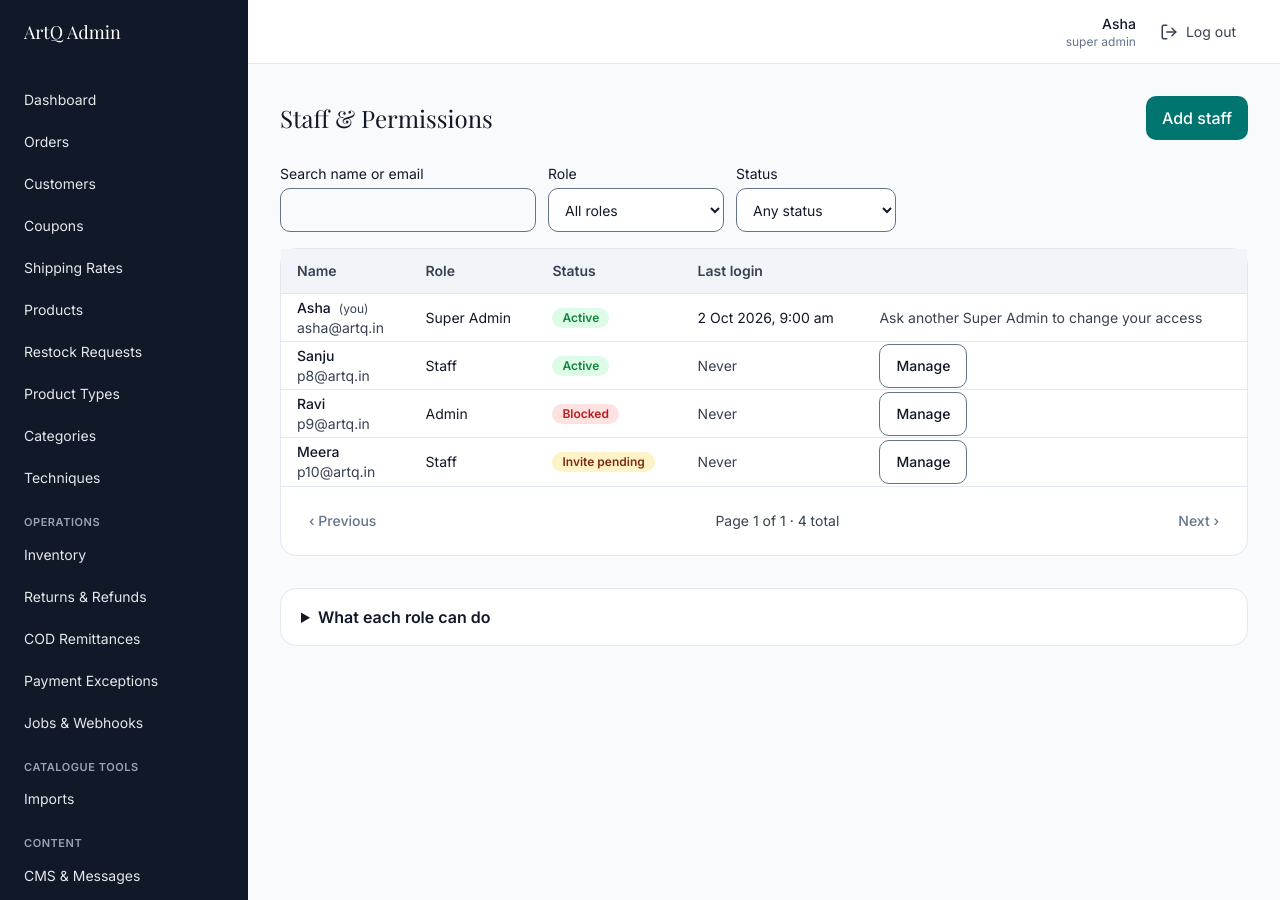
Test: Manage staff › role change asks for confirmation, then PATCHes the role
Click the button with aria-label "Manage Sanju".
click(923, 366)  # box [879,344,967,388]
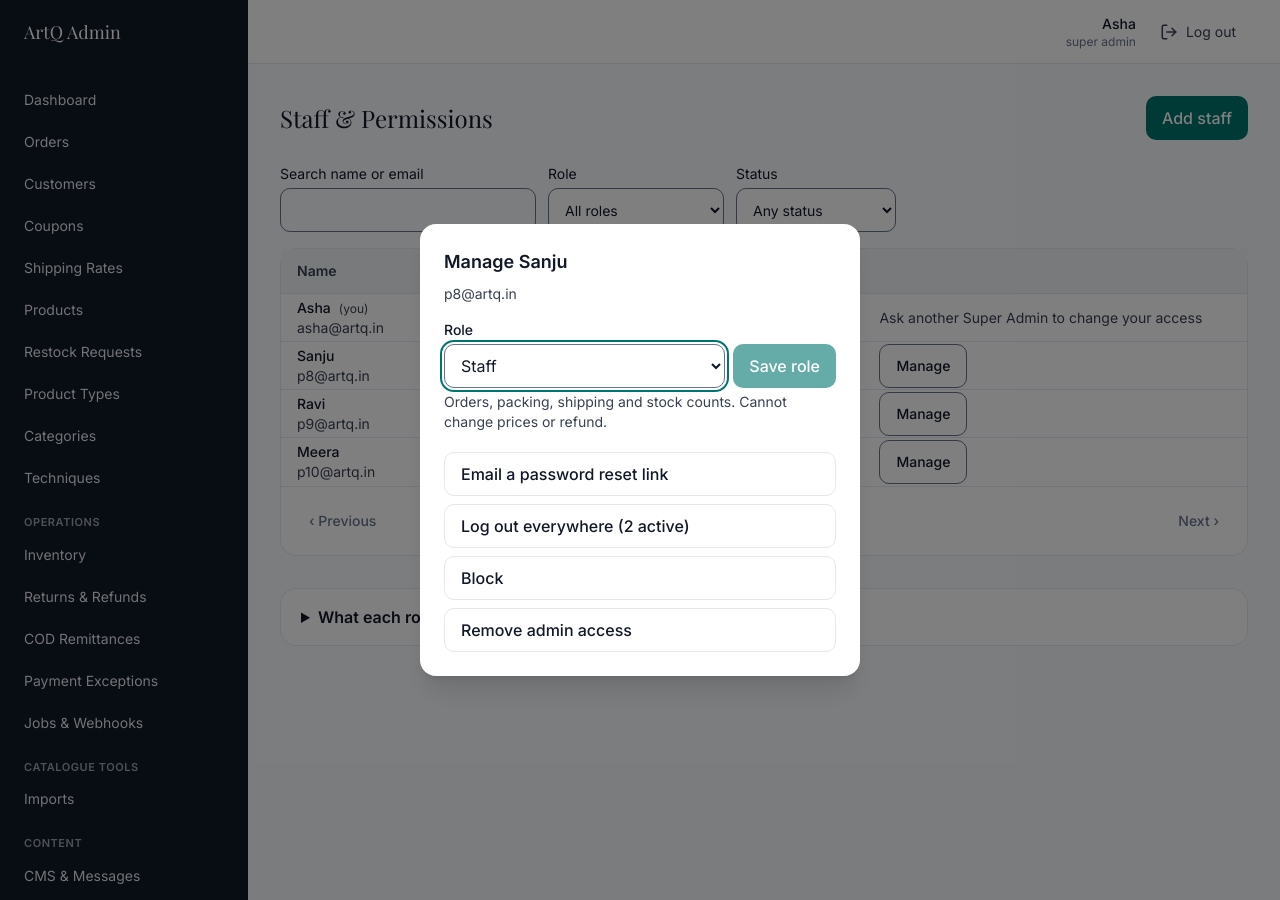
Expected: the button "Save role" is disabled, [733,344,836,388]
Select "Admin" in the dropdown labelled "Role" at (585, 366), box [444,344,725,388]
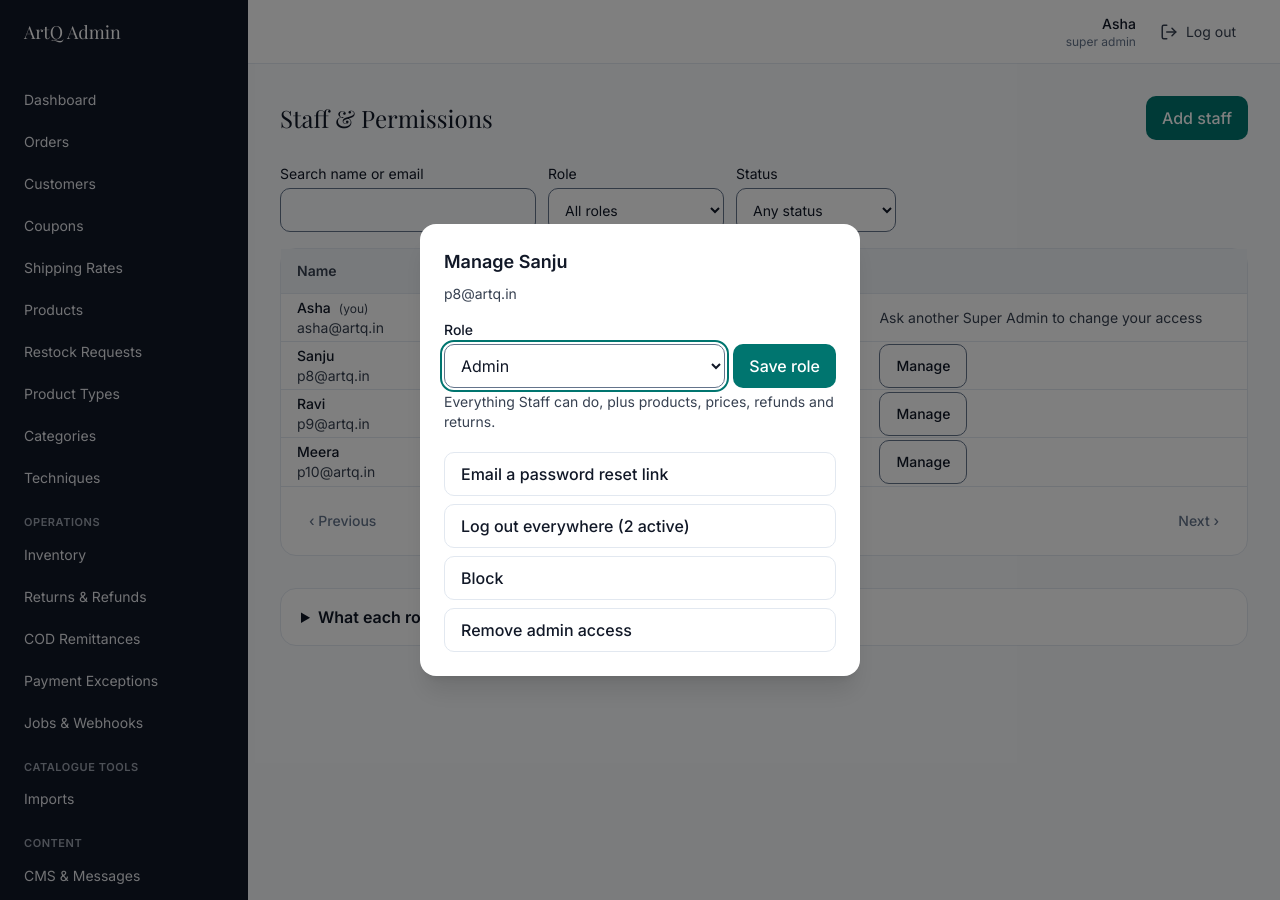
Click the button "Save role".
click(785, 366)  # box [733,344,836,388]
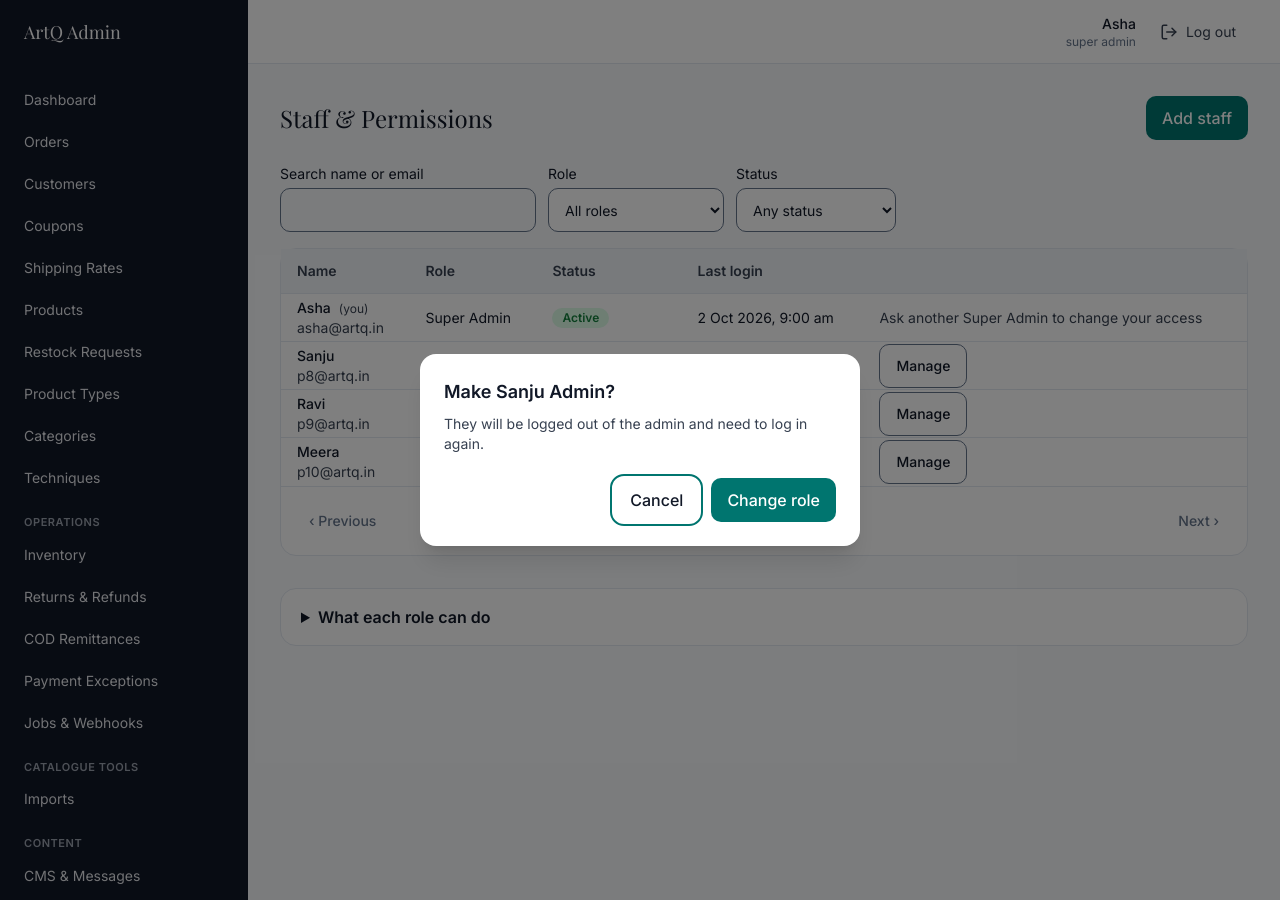
Click the button "Change role".
click(774, 500)  # box [711,478,836,522]
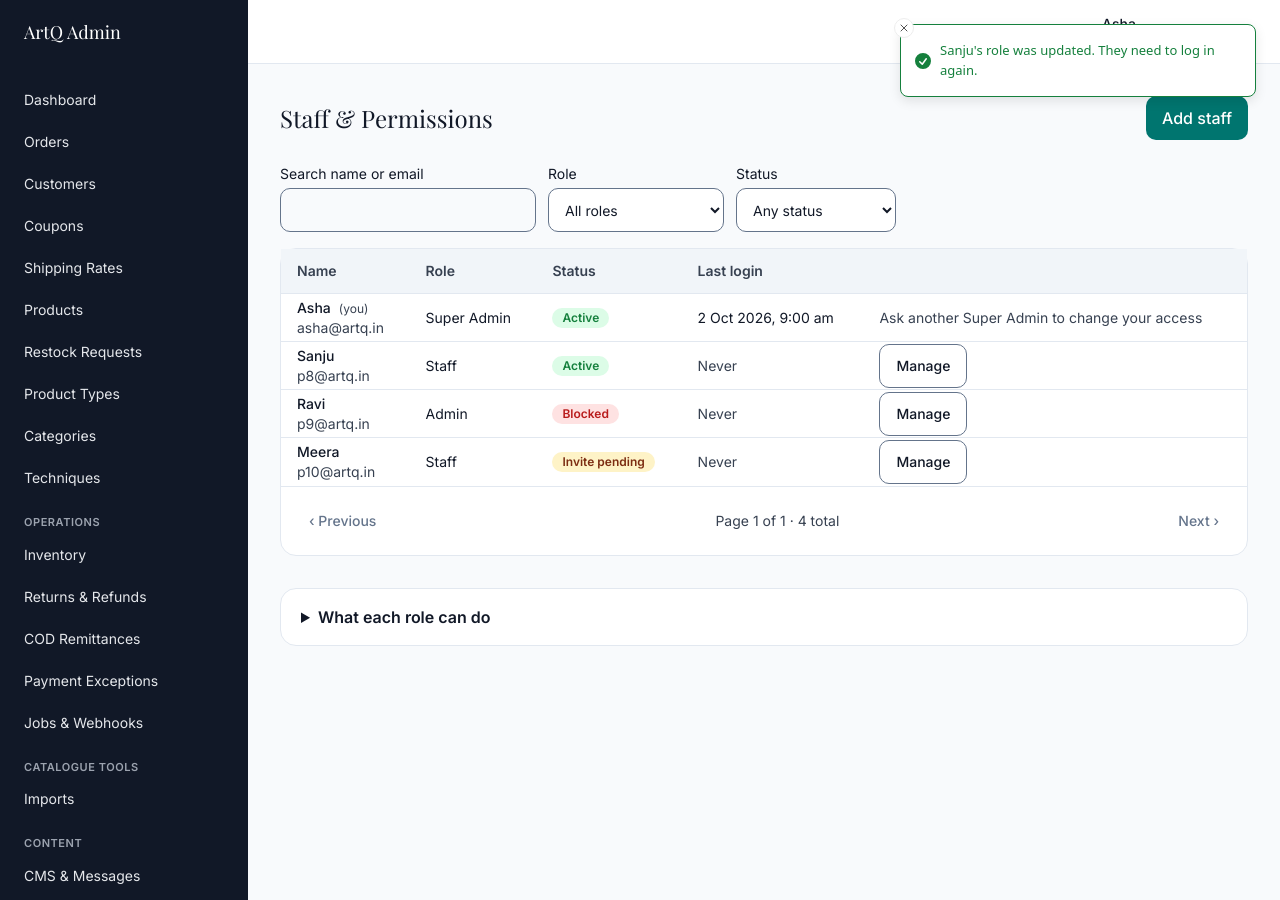
Expected: the text "Sanju's role was updated. They need to log in again." is shown, [940,41,1239,80]
